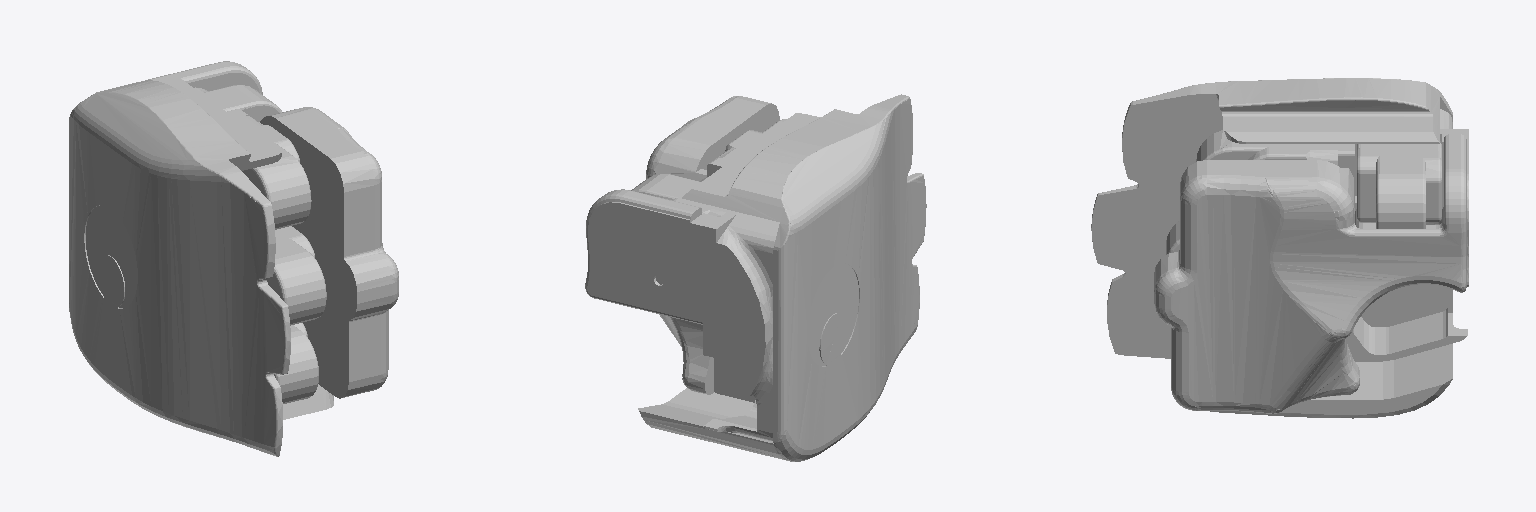
The model's file is ll_dg_palm_c_mesh_World_mesh.obj.
3 renders of one model, left to right at view 1: azimuth 30°, elevation 25°; view 2: azimuth 150°, elevation 25°; view 3: azimuth 270°, elevation 25°, orthographic.
Bounding box in the file's own units: 0.064 × 0.0823 × 0.0991.